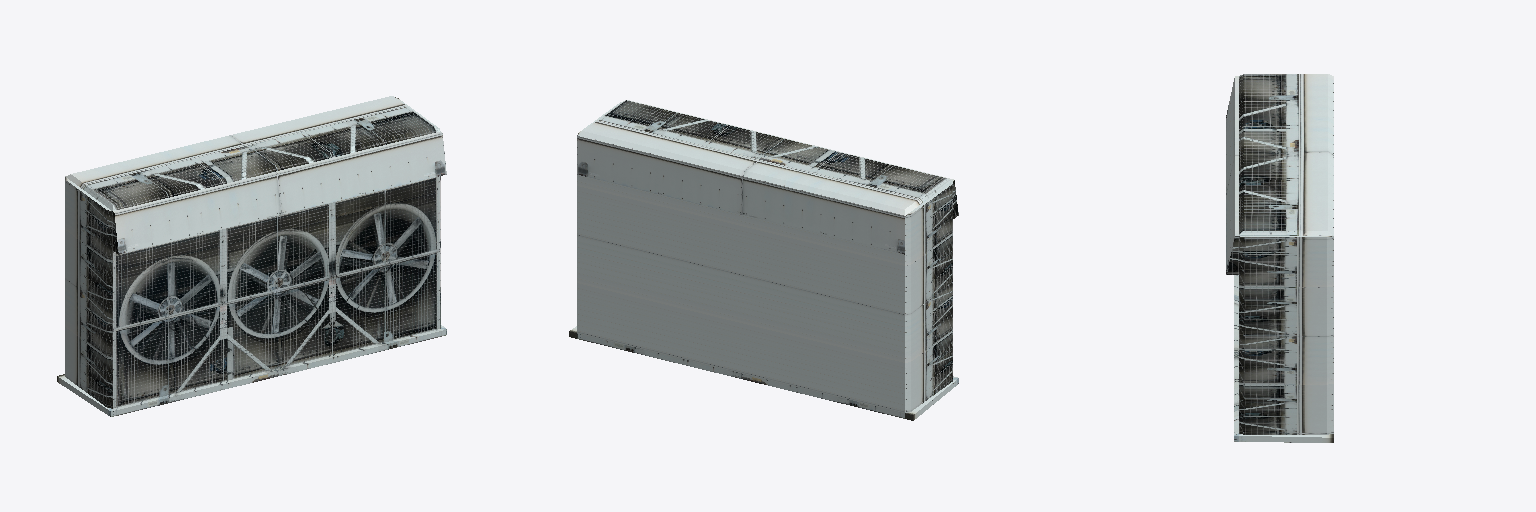
The picture shows the model from 3 angles: view 1: azimuth 30°, elevation 25°; view 2: azimuth 150°, elevation 25°; view 3: azimuth 270°, elevation 25°; orthographic projection.
Visible parts, largest first — view 1: ventilator_3; view 2: ventilator_3; view 3: ventilator_3.
Part boxes in pixels (bbox=[...]): ventilator_3: bbox=[57, 96, 446, 416]; ventilator_3: bbox=[569, 100, 958, 420]; ventilator_3: bbox=[1226, 74, 1333, 442].
Size of the model in its own units: 1.36 by 0.7816 by 0.367.
1 materials, 1 textured.